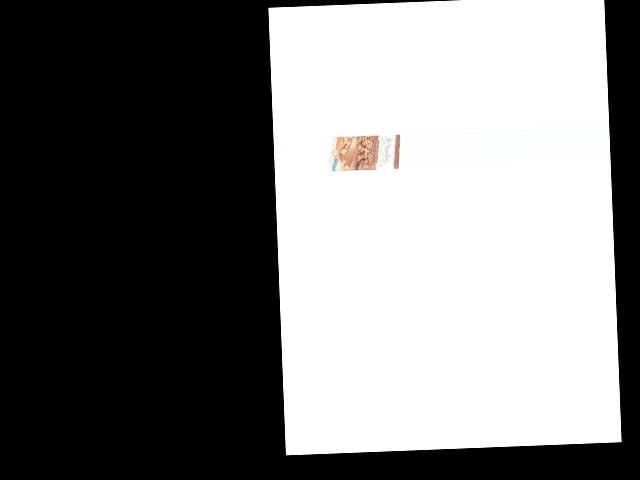chocolate: (329, 129, 399, 173)
